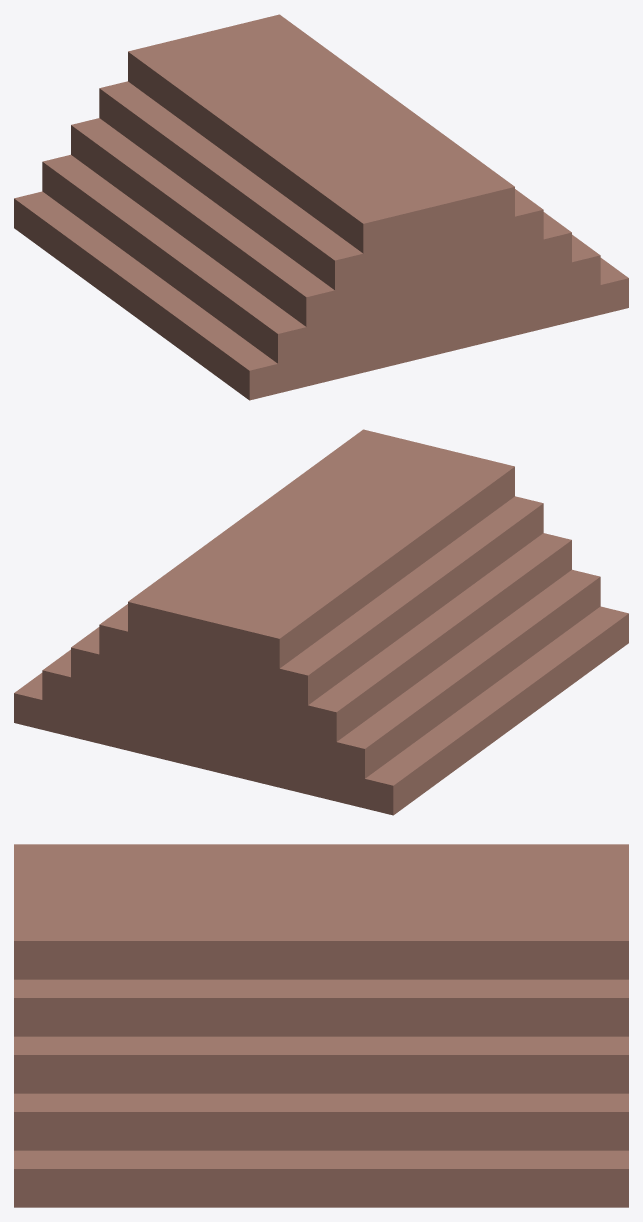
File: voxel-city-districts-stepped-gable-roof-bf028296__24913.glb
3 renders of one model, top to bottom at view 1: azimuth 30°, elevation 25°; view 2: azimuth 150°, elevation 25°; view 3: azimuth 270°, elevation 25°, orthographic. The views are drawn at different scales.
Parts seen in each view (by area): view 1: stepped-gable-roof-roof; view 2: stepped-gable-roof-roof; view 3: stepped-gable-roof-roof.
Part boxes in pixels (x1=…): stepped-gable-roof-roof: x1=14, y1=14, x2=628, y2=400; stepped-gable-roof-roof: x1=14, y1=429, x2=628, y2=815; stepped-gable-roof-roof: x1=14, y1=844, x2=628, y2=1207.
Bounding box in the file's own units: 4 × 1.5 × 4.3.
